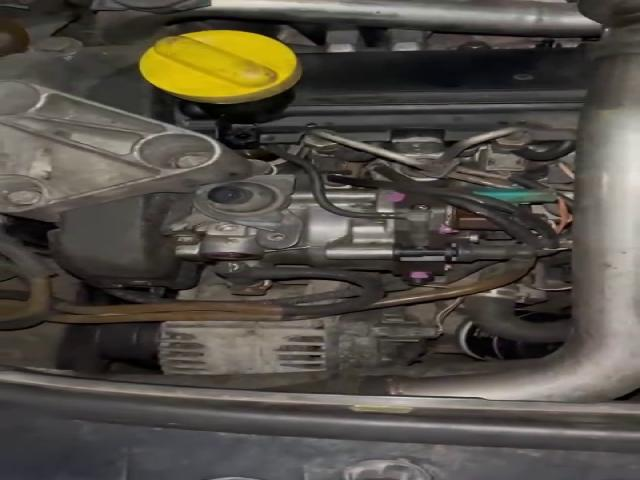alternator: (159, 318, 330, 375)
high_pressure_pump: (177, 189, 539, 285)
